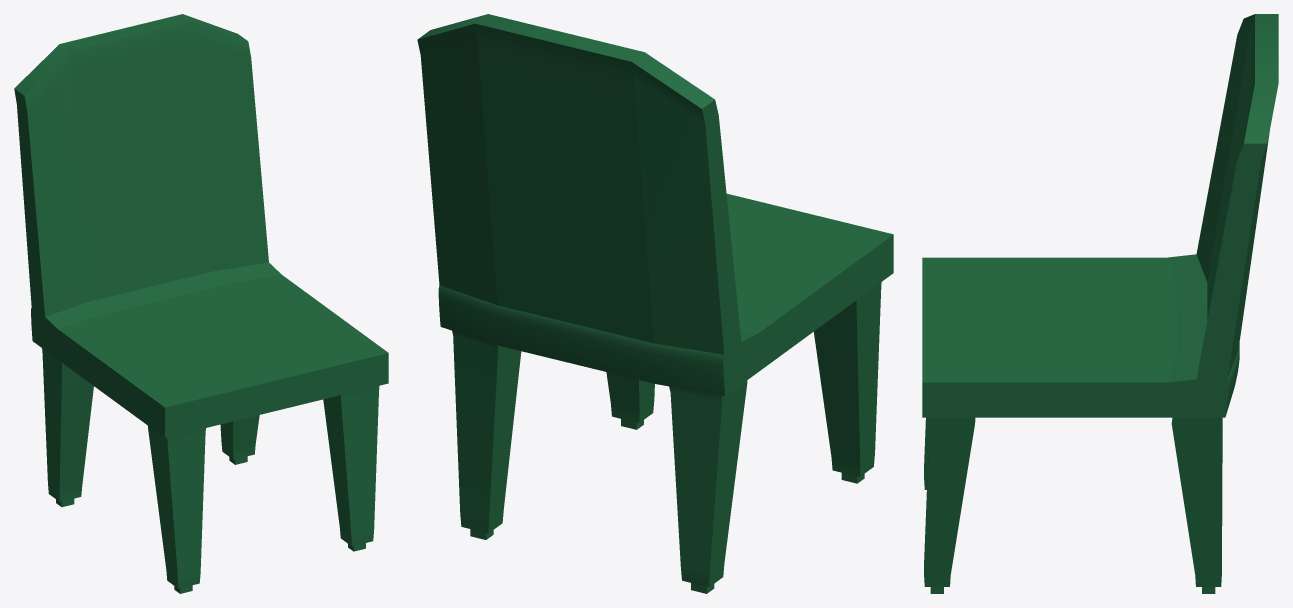
The model's file is plastic_chair.fbx.
The picture shows the model from 3 angles, left to right: view 1: azimuth 30°, elevation 25°; view 2: azimuth 150°, elevation 25°; view 3: azimuth 270°, elevation 25°; orthographic projection. The views are drawn at different scales.
Visible parts, largest first — view 1: simple_plastic_chair; view 2: simple_plastic_chair; view 3: simple_plastic_chair.
Part boxes in pixels (x1=…): simple_plastic_chair: x1=14, y1=14, x2=388, y2=593; simple_plastic_chair: x1=417, y1=14, x2=893, y2=593; simple_plastic_chair: x1=922, y1=14, x2=1278, y2=593.
Bounding box in the file's own units: 1.75 × 3.23 × 2.11.
